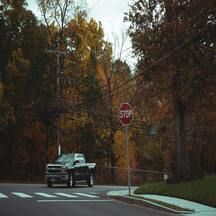Circle: (118, 102, 133, 124)
